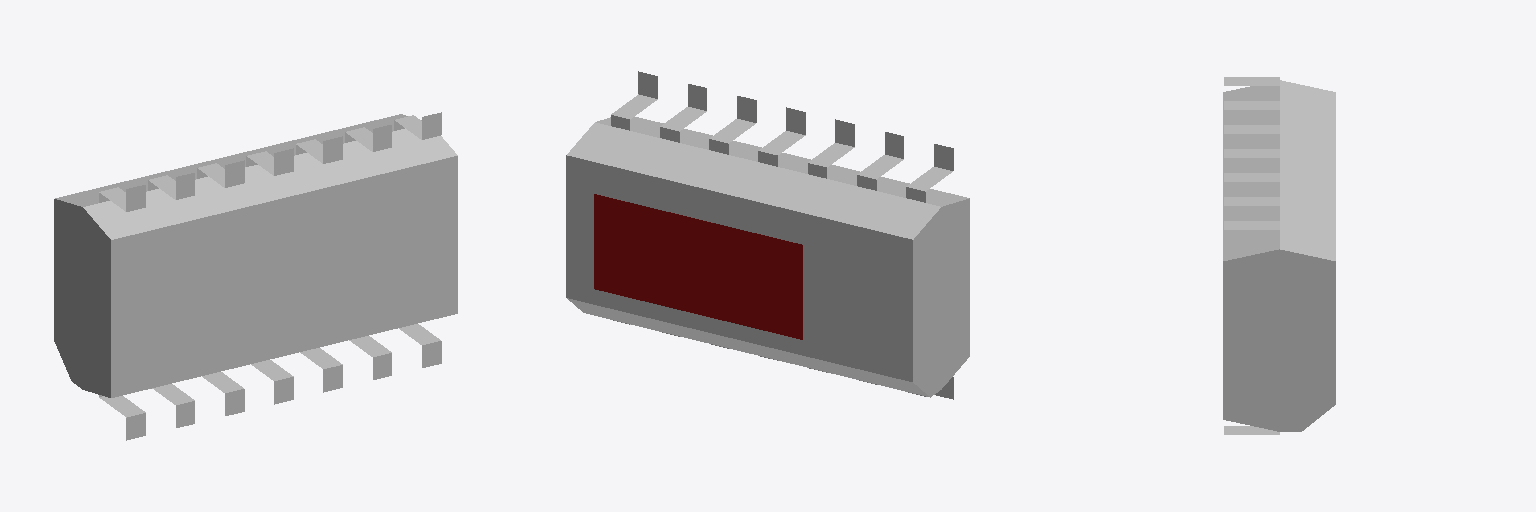
3 renders of one model, left to right at view 1: azimuth 30°, elevation 25°; view 2: azimuth 150°, elevation 25°; view 3: azimuth 270°, elevation 25°, orthographic.
Parts seen in each view (by area): view 1: ShapeIndexedFaceSet.014_ShapeIndexedFaceSet.015, ShapeIndexedFaceSet.010_ShapeIndexedFaceSet.011, ShapeIndexedFaceSet.013_ShapeIndexedFaceSet.014, ShapeIndexedFaceSet.012_ShapeIndexedFaceSet.013, ShapeIndexedFaceSet.009_ShapeIndexedFaceSet.010, ShapeIndexedFaceSet.007_ShapeIndexedFaceSet.008, ShapeIndexedFaceSet.011_ShapeIndexedFaceSet.012, ShapeIndexedFaceSet.008_ShapeIndexedFaceSet.009, ShapeIndexedFaceSet.006_ShapeIndexedFaceSet.007, ShapeIndexedFaceSet_ShapeIndexedFaceSet.001, ShapeIndexedFaceSet.001_ShapeIndexedFaceSet.002, ShapeIndexedFaceSet.004_ShapeIndexedFaceSet.005 (+3 smaller); view 2: ShapeIndexedFaceSet.014_ShapeIndexedFaceSet.015, ShapeIndexedFaceSet.015_ShapeIndexedFaceSet, ShapeIndexedFaceSet_ShapeIndexedFaceSet.001, ShapeIndexedFaceSet.004_ShapeIndexedFaceSet.005, ShapeIndexedFaceSet.003_ShapeIndexedFaceSet.004, ShapeIndexedFaceSet.001_ShapeIndexedFaceSet.002, ShapeIndexedFaceSet.006_ShapeIndexedFaceSet.007, ShapeIndexedFaceSet.002_ShapeIndexedFaceSet.003, ShapeIndexedFaceSet.005_ShapeIndexedFaceSet.006; view 3: ShapeIndexedFaceSet.014_ShapeIndexedFaceSet.015.
Part boxes in pixels (left/top/right/bottom): ShapeIndexedFaceSet.014_ShapeIndexedFaceSet.015: left=54, top=114, right=457, bottom=397; ShapeIndexedFaceSet.010_ShapeIndexedFaceSet.011: left=99, top=395, right=145, bottom=440; ShapeIndexedFaceSet.013_ShapeIndexedFaceSet.014: left=251, top=360, right=293, bottom=404; ShapeIndexedFaceSet.012_ShapeIndexedFaceSet.013: left=202, top=372, right=244, bottom=415; ShapeIndexedFaceSet.009_ShapeIndexedFaceSet.010: left=300, top=348, right=342, bottom=392; ShapeIndexedFaceSet.007_ShapeIndexedFaceSet.008: left=399, top=324, right=441, bottom=367; ShapeIndexedFaceSet.011_ShapeIndexedFaceSet.012: left=152, top=384, right=194, bottom=427; ShapeIndexedFaceSet.008_ShapeIndexedFaceSet.009: left=349, top=336, right=391, bottom=379; ShapeIndexedFaceSet.006_ShapeIndexedFaceSet.007: left=394, top=112, right=441, bottom=139; ShapeIndexedFaceSet_ShapeIndexedFaceSet.001: left=246, top=148, right=293, bottom=175; ShapeIndexedFaceSet.001_ShapeIndexedFaceSet.002: left=197, top=160, right=244, bottom=187; ShapeIndexedFaceSet.004_ShapeIndexedFaceSet.005: left=296, top=136, right=342, bottom=163; ShapeIndexedFaceSet.014_ShapeIndexedFaceSet.015: left=566, top=117, right=969, bottom=397; ShapeIndexedFaceSet.015_ShapeIndexedFaceSet: left=594, top=194, right=802, bottom=339; ShapeIndexedFaceSet_ShapeIndexedFaceSet.001: left=758, top=107, right=805, bottom=166; ShapeIndexedFaceSet.004_ShapeIndexedFaceSet.005: left=709, top=96, right=756, bottom=154; ShapeIndexedFaceSet.003_ShapeIndexedFaceSet.004: left=906, top=144, right=953, bottom=202; ShapeIndexedFaceSet.001_ShapeIndexedFaceSet.002: left=808, top=119, right=854, bottom=178; ShapeIndexedFaceSet.006_ShapeIndexedFaceSet.007: left=611, top=71, right=657, bottom=130; ShapeIndexedFaceSet.002_ShapeIndexedFaceSet.003: left=857, top=132, right=903, bottom=190; ShapeIndexedFaceSet.005_ShapeIndexedFaceSet.006: left=660, top=84, right=706, bottom=142; ShapeIndexedFaceSet.014_ShapeIndexedFaceSet.015: left=1223, top=80, right=1335, bottom=431.
Size of the model in its own units: 8.95 by 6.2 by 2.56.